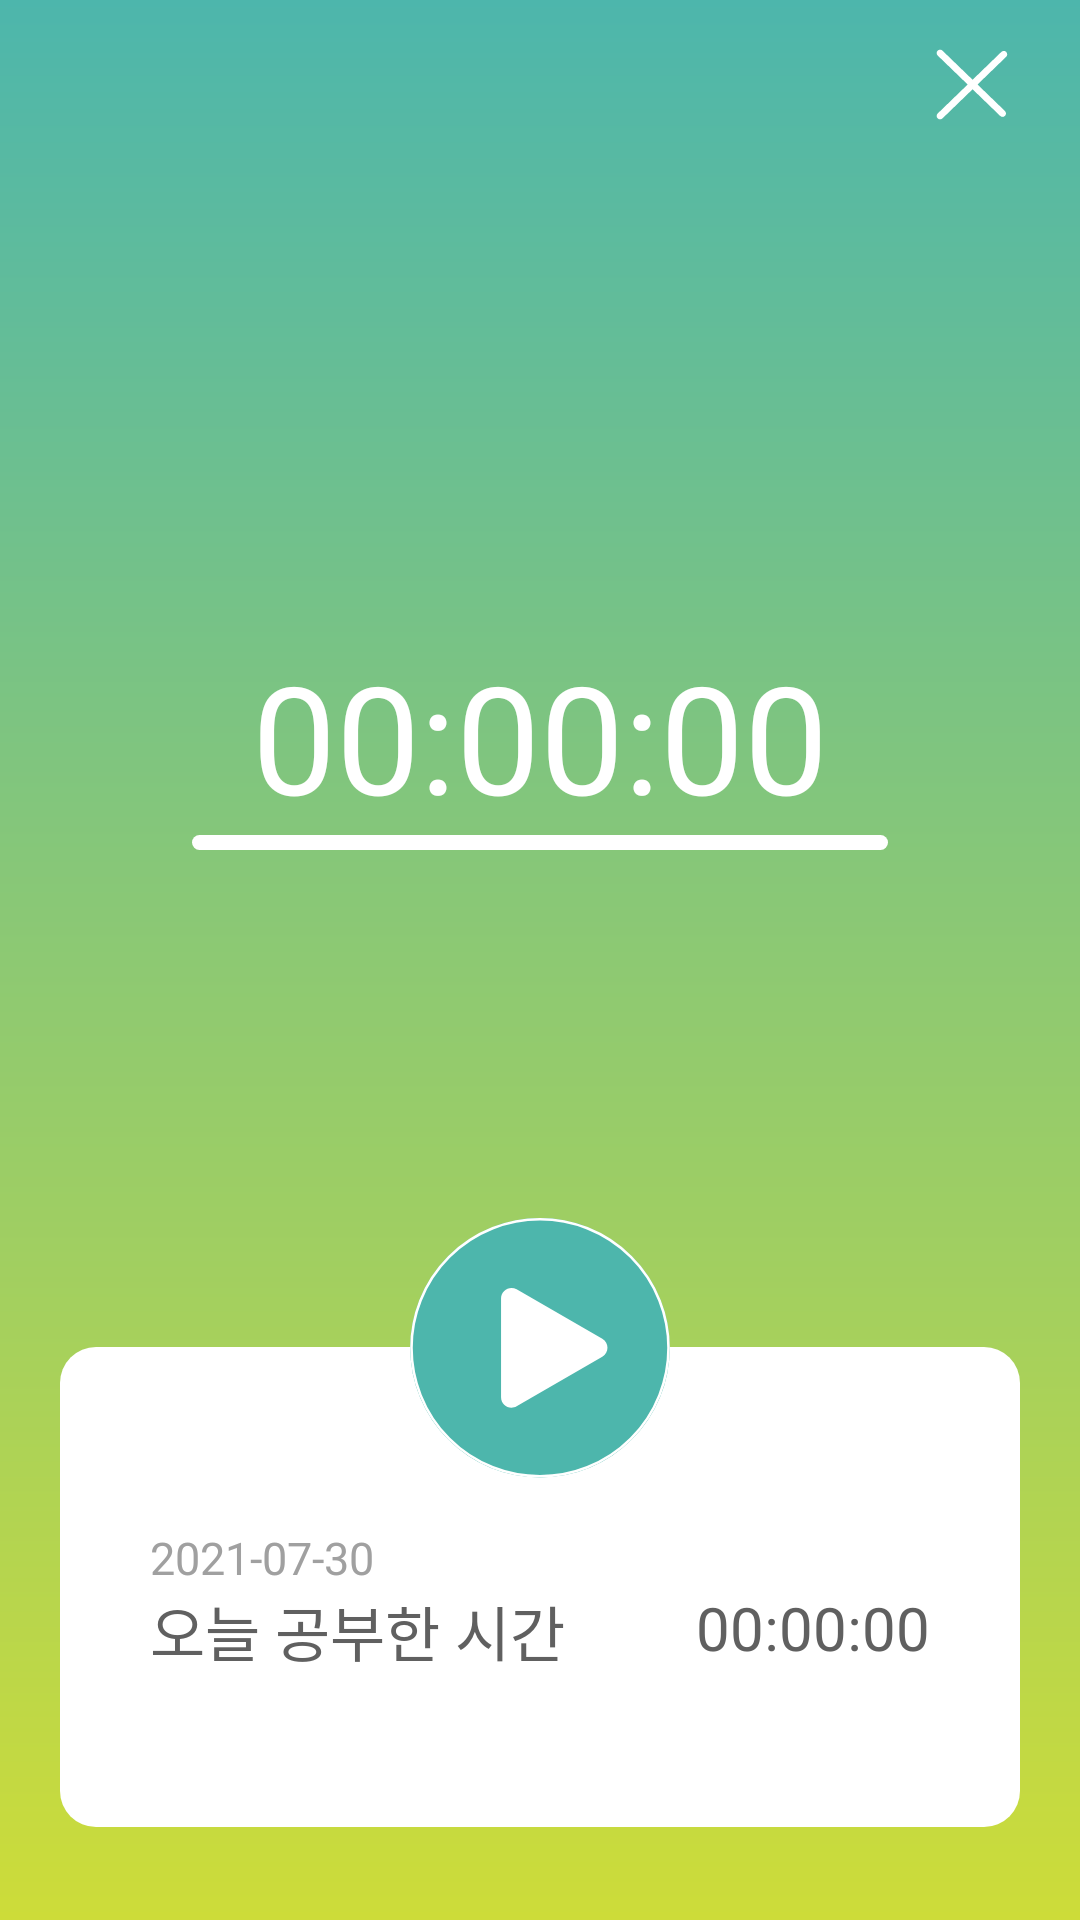

Named icons in this screenshot (1080 × 1920) and their bounding boxes, Rect(x1, y1, x2, y2):
stopwatch bt close: Rect(936, 49, 1008, 120)
